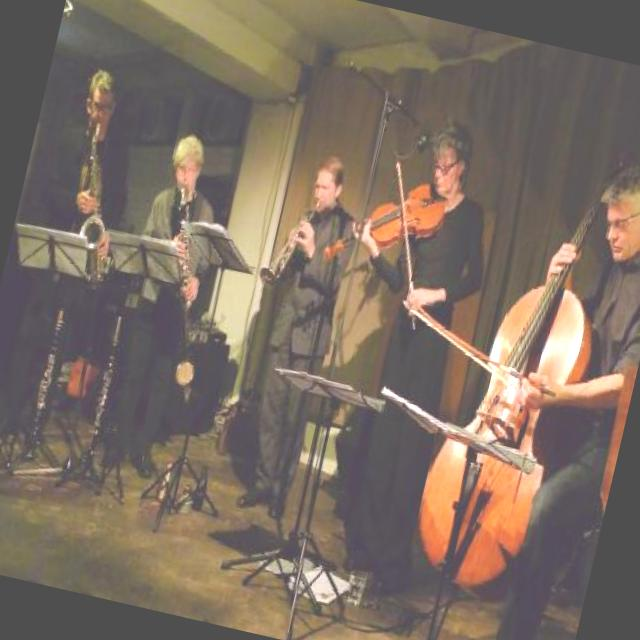Person: (274, 100, 516, 587), (451, 143, 640, 640), (0, 60, 154, 456), (224, 146, 372, 519), (88, 127, 232, 476)
